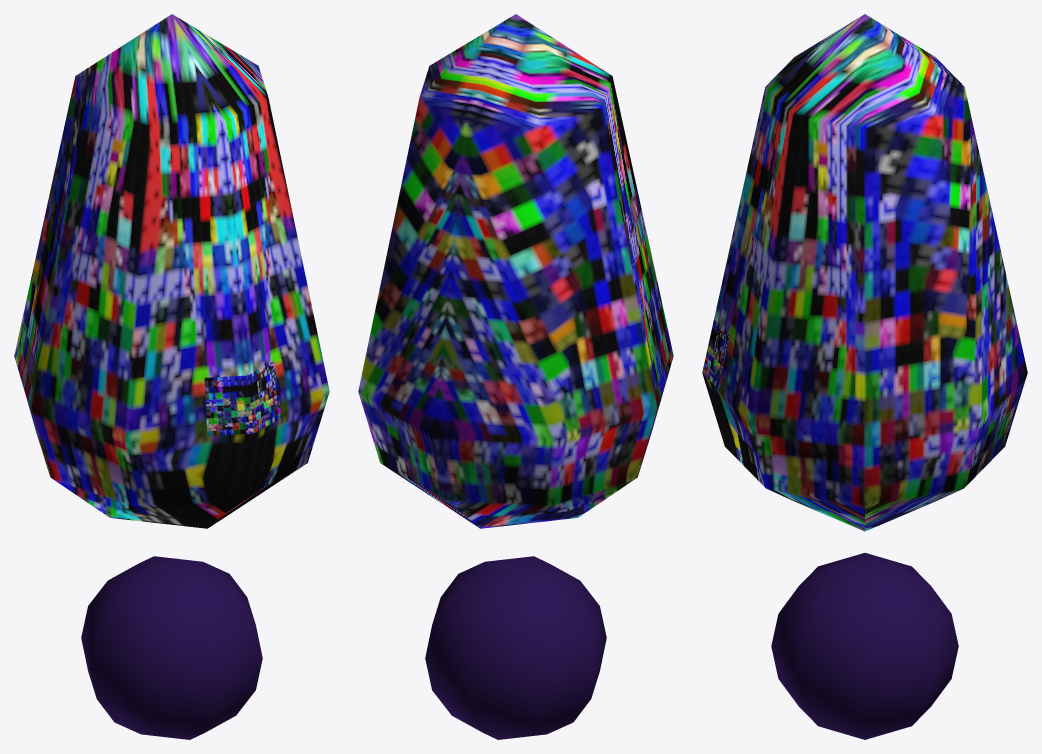
Rendered from cloth_donkey_model.glb.
3 renders of one model, left to right at view 1: azimuth 30°, elevation 25°; view 2: azimuth 150°, elevation 25°; view 3: azimuth 270°, elevation 25°, orthographic.
Visible parts, largest first — view 1: cloth_donkey_model; view 2: cloth_donkey_model; view 3: cloth_donkey_model.
Part boxes in pixels (<box>): cloth_donkey_model: <box>14,14,329,739</box>; cloth_donkey_model: <box>358,14,673,739</box>; cloth_donkey_model: <box>702,14,1027,739</box>.
Bounding box in the file's own units: 35.53 × 86.34 × 35.52.
1 material, 1 textured.
